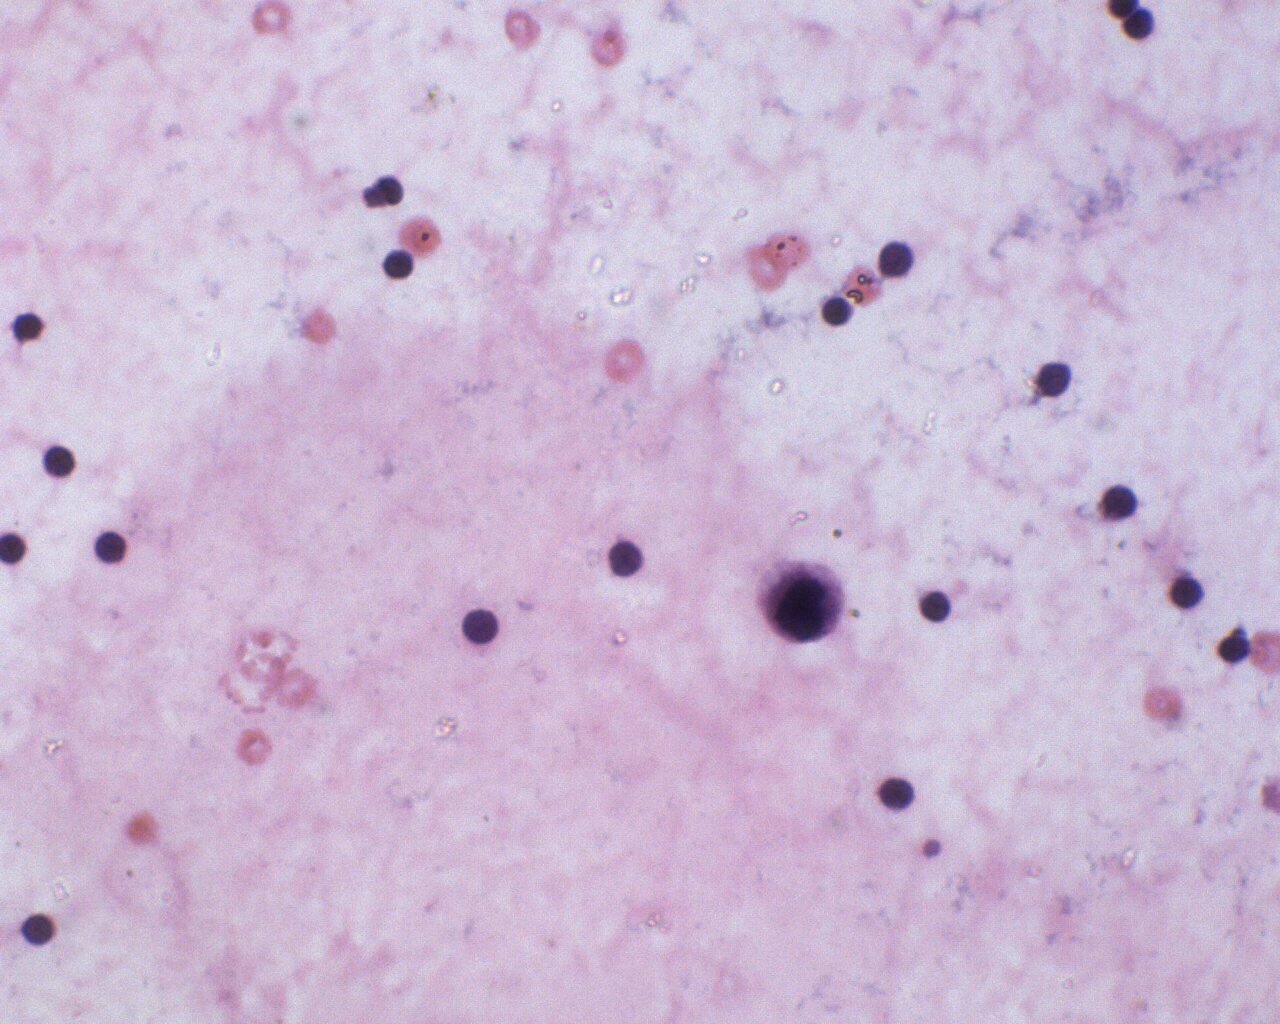ab: (754, 558, 846, 650)
lymph: (456, 604, 510, 652), (872, 771, 921, 820), (910, 585, 957, 632), (1098, 481, 1145, 527), (605, 534, 650, 582), (1034, 353, 1076, 403), (1164, 569, 1209, 615), (15, 910, 63, 949), (88, 523, 127, 566), (377, 245, 420, 283), (40, 438, 77, 482), (816, 293, 855, 331)
